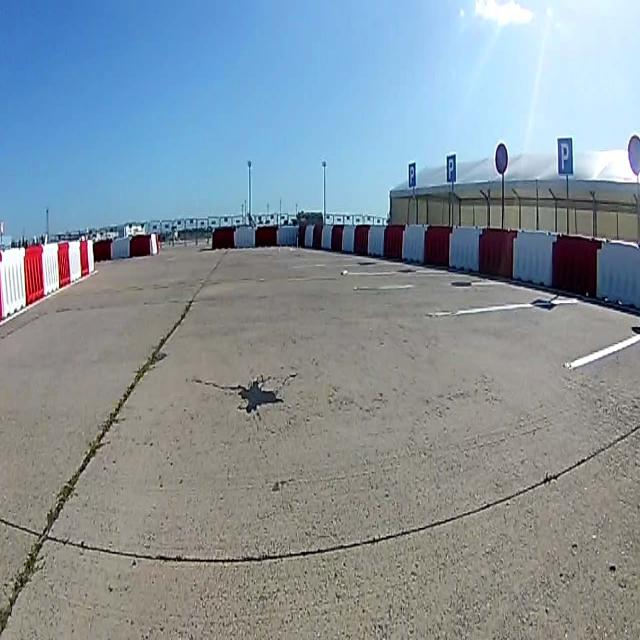park: (557, 136, 573, 176), (446, 155, 456, 185), (408, 162, 416, 188)
parkyasak: (627, 134, 640, 175), (496, 143, 508, 174)
